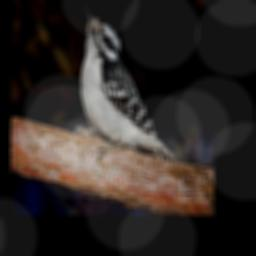Woodpecker: (71, 3, 178, 163)
